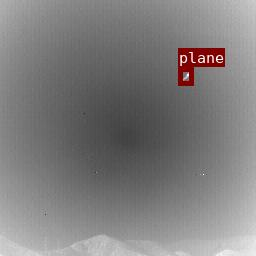plane: (178, 67, 193, 85)
